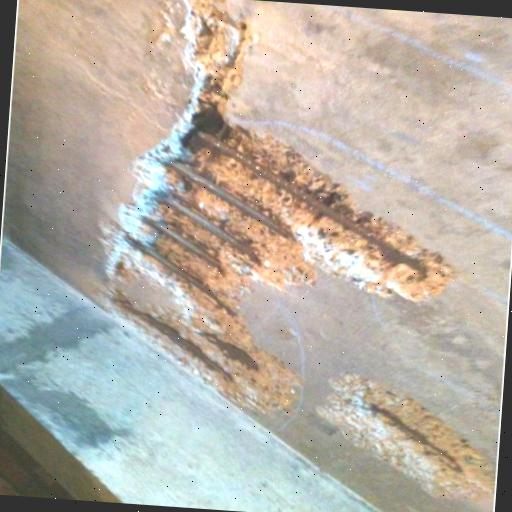spalling: (108, 0, 450, 406), (317, 376, 491, 496)
